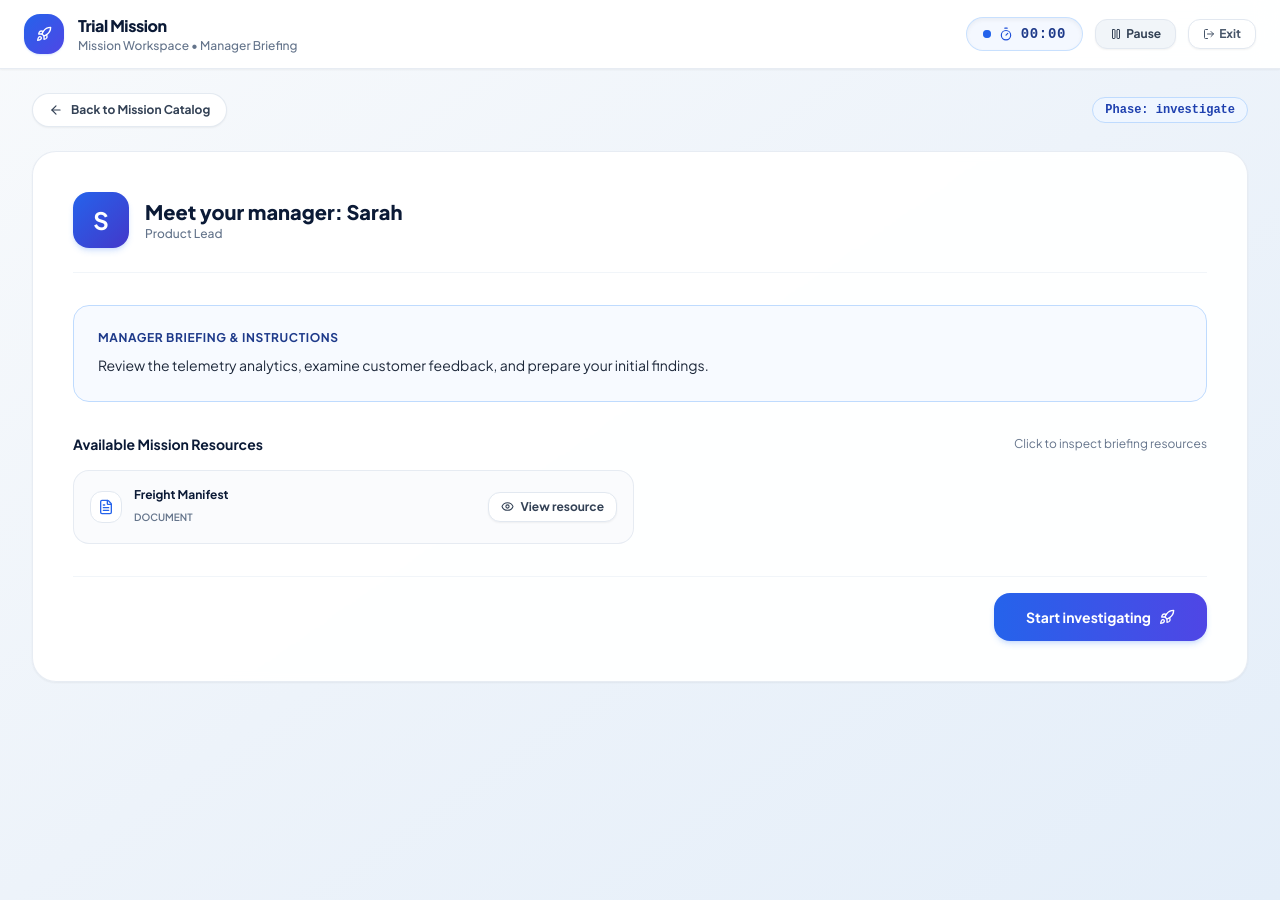
Test: Trial Mission UI Refinement — Full-Screen Shell & Stopwatch Header › renders process_workflow workspace with valid process configuration from mission_configuration
The width and height of the screenshot is (1280, 900).
Click the button "Start investigating": x=1100, y=617 [994,593,1207,641]
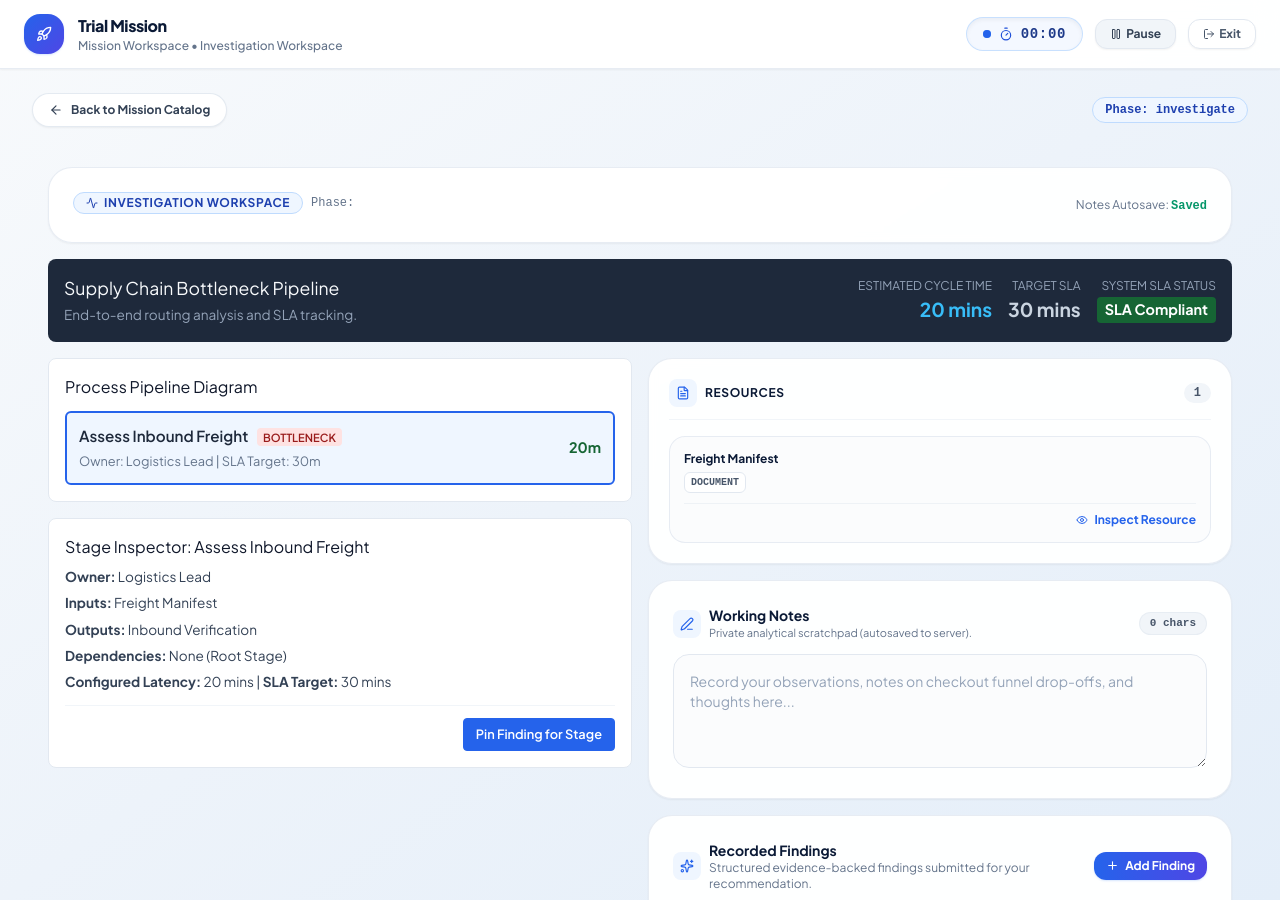
Result: the heading "Supply Chain Bottleneck Pipeline" is shown at [64,275,357,301]
